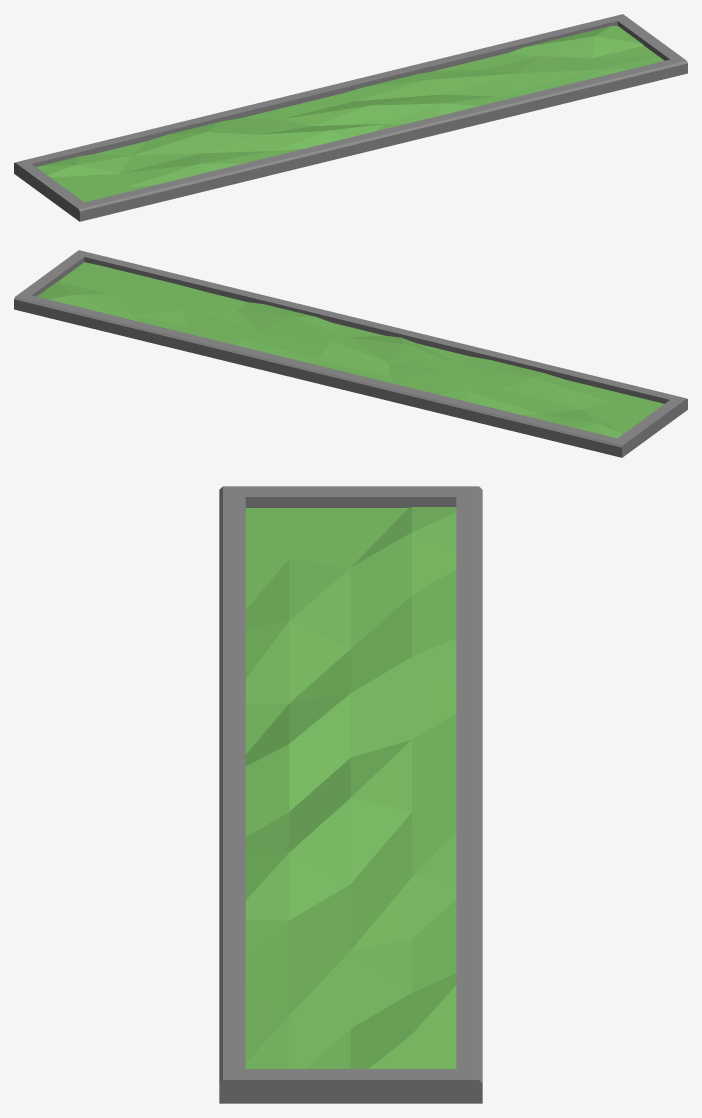
Rendered from Flowerbed_09.fbx.
3 renders of one model, top to bottom at view 1: azimuth 30°, elevation 25°; view 2: azimuth 150°, elevation 25°; view 3: azimuth 270°, elevation 25°, orthographic. The views are drawn at different scales.
Visible parts, largest first — view 1: Flowerbed_09; view 2: Flowerbed_09; view 3: Flowerbed_09.
Boxes of the visible parts, x1=… form: Flowerbed_09: x1=14, y1=14, x2=687, y2=221; Flowerbed_09: x1=14, y1=250, x2=687, y2=457; Flowerbed_09: x1=219, y1=486, x2=482, y2=1103.
Bounding box in the file's own units: 800 × 17.03 × 150.
